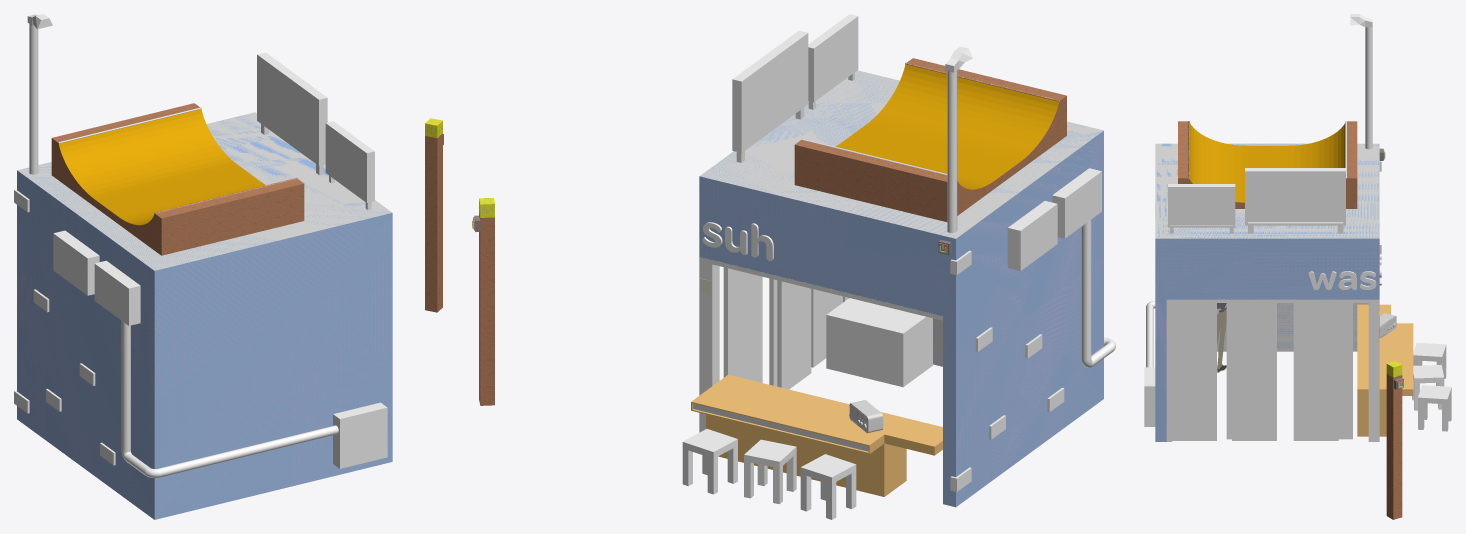
Rendered from hut5.glb.
3 views of the same model, side by side, from view 1: azimuth 30°, elevation 25°; view 2: azimuth 150°, elevation 25°; view 3: azimuth 270°, elevation 25° (orthographic). The views are drawn at different scales.
Visible parts, largest first — view 1: group_26.001, group_44.002, group_26.002, group_44.001, group_30, SketchUp, group_17, group_27, group_46, group_28, group_11, group_51; view 2: group_26.001, group_44.002, group_26.002, group_22, group_44.001, group_50, group_30, group_24, group_14, group_46, group_17, group_20 (+12 smaller); view 3: group_26.001, group_26.002, group_13, group_19, group_9, group_44.002, group_30.001, group_33, group_22, group_49, group_17, group_24 (+16 smaller).
Boxes of the visible parts, <box> form: group_26.001: <box>17,170,392,519</box>; group_44.002: <box>59,109,265,225</box>; group_26.002: <box>17,112,392,270</box>; group_44.001: <box>51,103,304,255</box>; group_30: <box>257,52,327,165</box>; SketchUp: <box>121,321,338,477</box>; group_17: <box>425,133,442,312</box>; group_27: <box>333,402,387,468</box>; group_46: <box>325,121,374,202</box>; group_28: <box>94,260,140,325</box>; group_11: <box>53,230,99,295</box>; group_51: <box>29,24,38,174</box>; group_26.001: <box>699,131,1103,507</box>; group_44.002: <box>836,64,1059,189</box>; group_26.002: <box>700,70,1103,238</box>; group_22: <box>691,374,906,496</box>; group_44.001: <box>794,58,1066,221</box>; group_50: <box>826,298,932,387</box>; group_30: <box>732,30,808,152</box>; group_24: <box>723,267,757,381</box>; group_14: <box>777,280,811,389</box>; group_46: <box>808,14,858,102</box>; group_17: <box>479,212,494,405</box>; group_20: <box>699,257,719,432</box>; group_26.001: <box>1155,238,1379,441</box>; group_26.002: <box>1155,143,1379,238</box>; group_13: <box>1293,303,1338,440</box>; group_19: <box>1232,303,1276,440</box>; group_9: <box>1172,303,1216,440</box>; group_44.002: <box>1189,123,1345,202</box>; group_30.001: <box>1248,173,1343,223</box>; group_33: <box>1248,173,1343,222</box>; group_22: <box>1357,323,1413,436</box>; group_49: <box>1170,189,1233,225</box>; group_17: <box>1386,374,1402,519</box>; group_24: <box>1338,303,1352,439</box>.
Size of the model in its own units: 5.75 by 5.03 by 4.18.
Materials: 24 (5 with a texture image).
